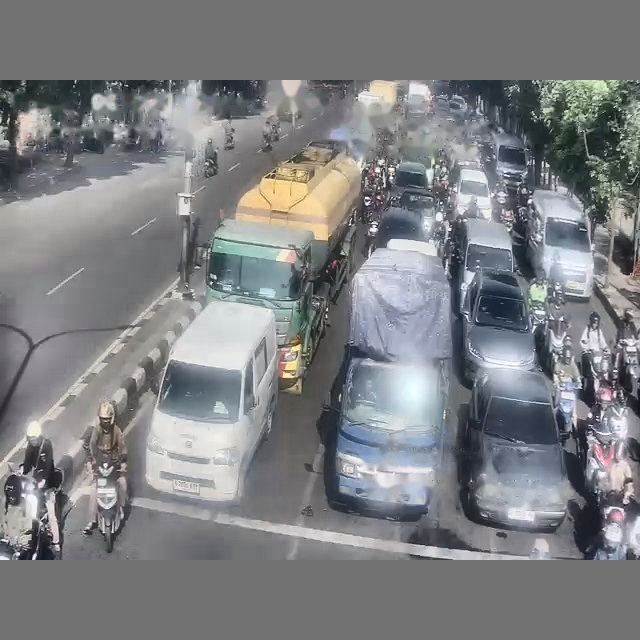Mobil: (463, 369, 571, 529), (461, 268, 538, 380), (375, 208, 426, 248), (454, 167, 492, 219), (392, 188, 434, 233), (391, 161, 432, 198), (276, 96, 302, 121), (435, 95, 449, 112)
Motor: (3, 464, 54, 559), (93, 456, 122, 552), (618, 339, 639, 399), (557, 378, 578, 437), (204, 158, 217, 177), (224, 131, 235, 150), (261, 133, 272, 151)
Truk: (206, 140, 360, 394), (323, 248, 452, 516)
